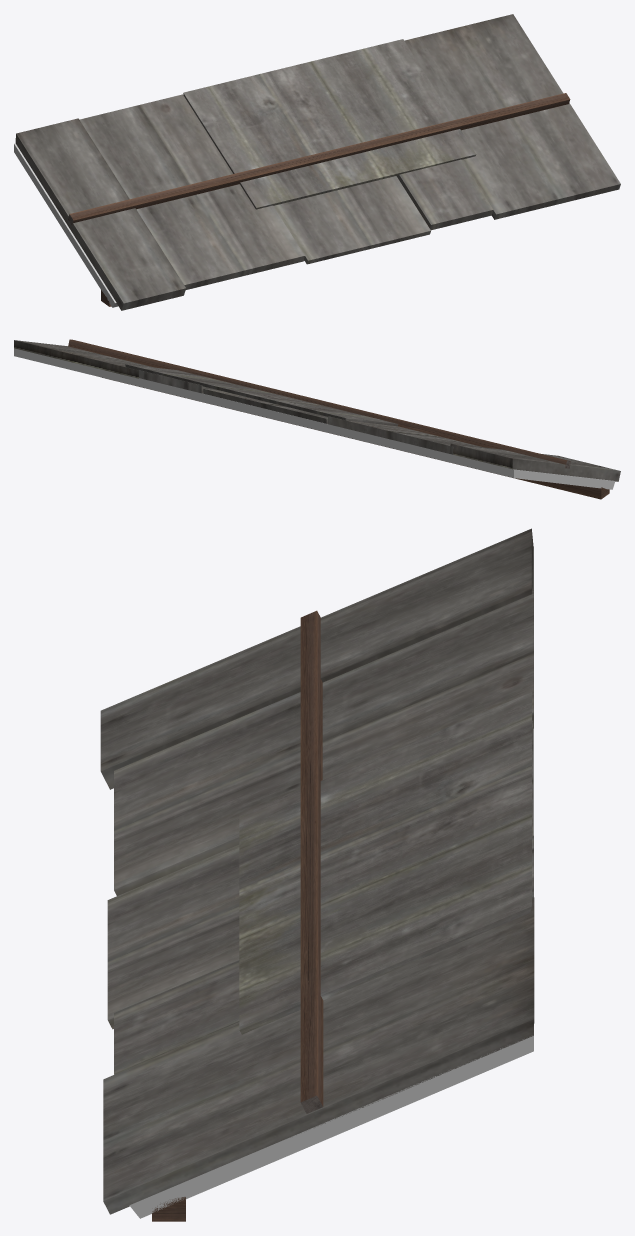
The model's file is itabuki_2x1t_a2middle.fbx.
The picture shows the model from 3 angles, top to bottom: view 1: azimuth 30°, elevation 25°; view 2: azimuth 150°, elevation 25°; view 3: azimuth 270°, elevation 25°; orthographic projection. The views are drawn at different scales.
Visible parts, largest first — view 1: itabuki_2x1t_a2middle; view 2: itabuki_2x1t_a2middle; view 3: itabuki_2x1t_a2middle.
Part boxes in pixels (bbox=[...]): itabuki_2x1t_a2middle: bbox=[14, 14, 620, 310]; itabuki_2x1t_a2middle: bbox=[14, 339, 620, 499]; itabuki_2x1t_a2middle: bbox=[100, 528, 534, 1221].
Bounding box in the file's own units: 440 × 87.24 × 165.
